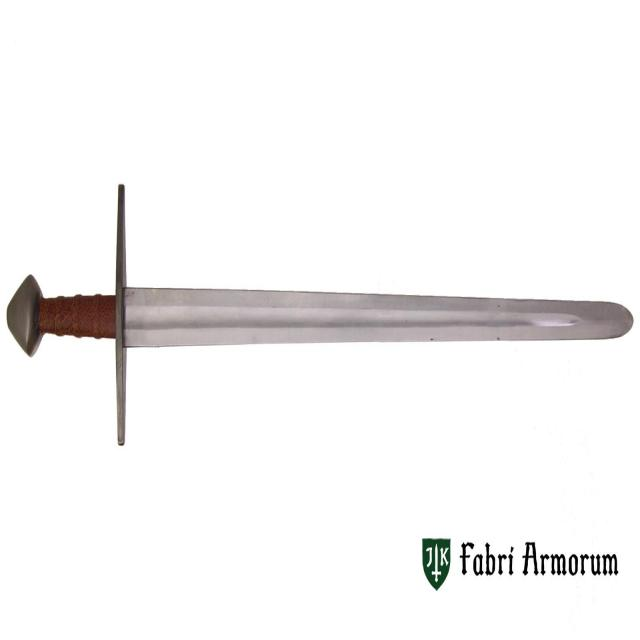weapon: (6, 176, 638, 452)
